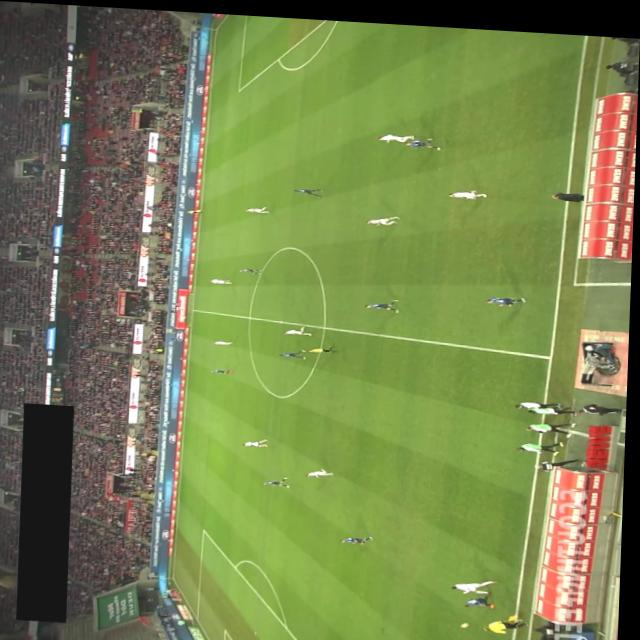player: (455, 571, 503, 589), (367, 292, 402, 308), (405, 131, 442, 145), (468, 587, 499, 602), (378, 127, 416, 139), (367, 209, 401, 221), (488, 289, 528, 299), (450, 183, 489, 193), (265, 471, 294, 484), (344, 529, 378, 540), (294, 182, 324, 193), (244, 433, 273, 444), (309, 463, 337, 474), (286, 322, 314, 331), (281, 346, 309, 355), (246, 201, 270, 209), (240, 264, 263, 271), (214, 365, 236, 371), (211, 275, 234, 280), (215, 336, 236, 341)
referee: (486, 605, 535, 628), (310, 339, 341, 349), (188, 206, 204, 211)
